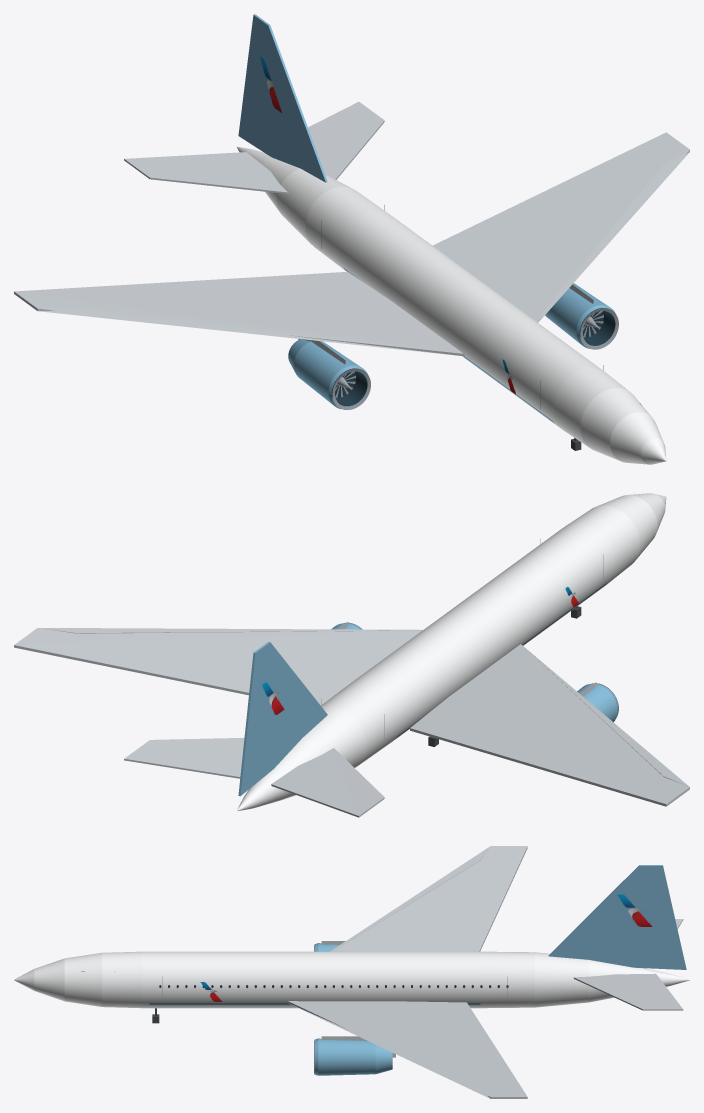
File: b777-AAL-v3.gltf
The picture shows the model from 3 angles, top to bottom: view 1: azimuth 30°, elevation 25°; view 2: azimuth 150°, elevation 25°; view 3: azimuth 270°, elevation 25°; orthographic projection. The views are drawn at different scales.
Parts seen in each view (by area): view 1: object 1; view 2: object 1; view 3: object 1.
Boxes of the visible parts, box(x1,y1,x2,y2) form: object 1: box(14, 14, 689, 464); object 1: box(14, 493, 689, 817); object 1: box(14, 846, 689, 1098).
Size of the model in its own units: 65 by 19.44 by 74.
Materials: 8 (1 with a texture image).
